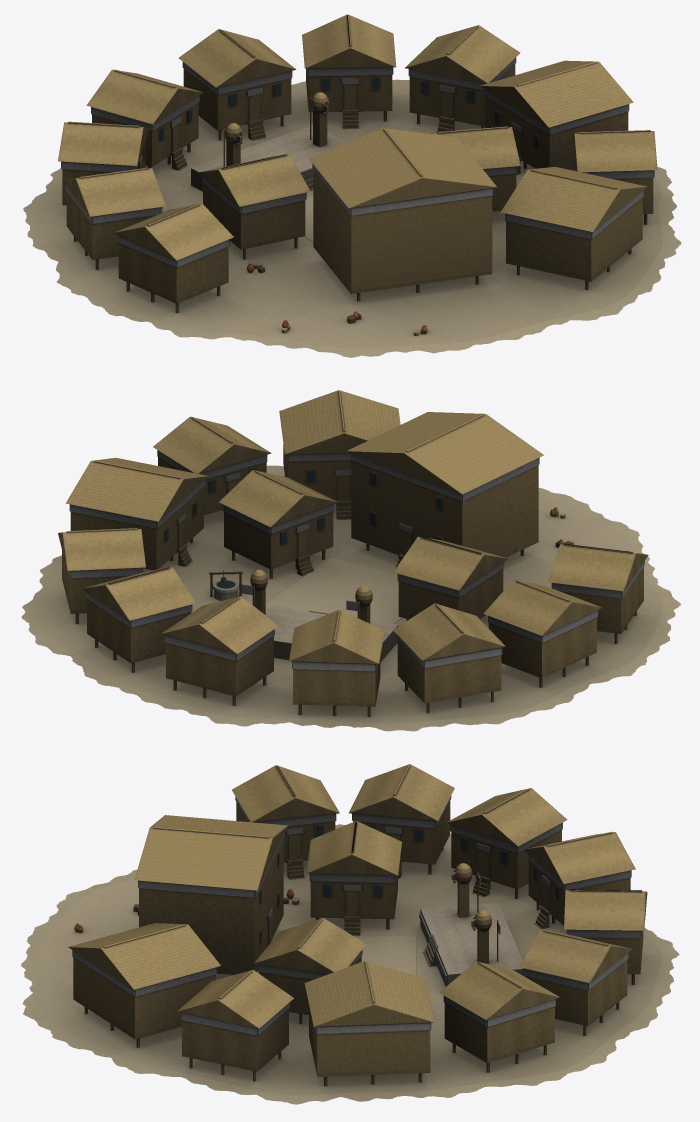
Rendered from bronze-town-medium-b-pacific.glb.
3 renders of one model, top to bottom at view 1: azimuth 30°, elevation 25°; view 2: azimuth 150°, elevation 25°; view 3: azimuth 270°, elevation 25°, orthographic.
Visible parts, largest first — view 1: LOD0; view 2: LOD0; view 3: LOD0.
Part boxes in pixels (x1,y1,x2,y2): LOD0: [23, 14, 681, 357]; LOD0: [21, 390, 680, 731]; LOD0: [21, 764, 679, 1104].
Size of what is drawn, in the model's own units: 5.96 by 1.22 by 5.93.
3 materials, 3 textured.
